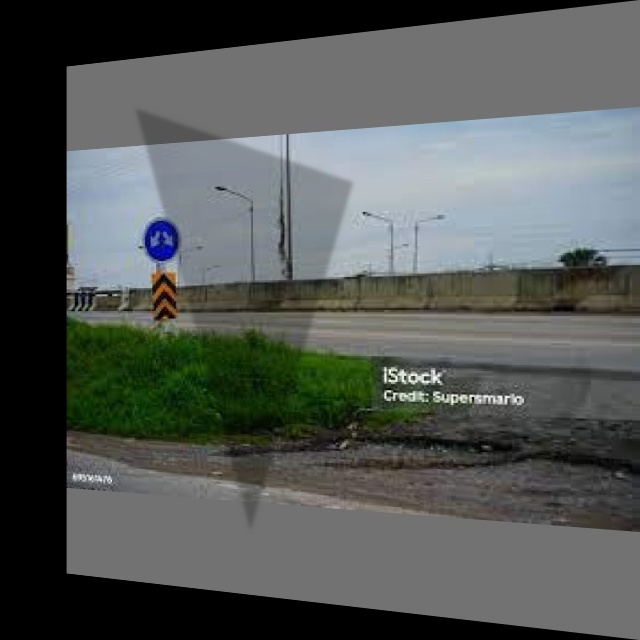Pass_Either_Side: (145, 215, 182, 262)
